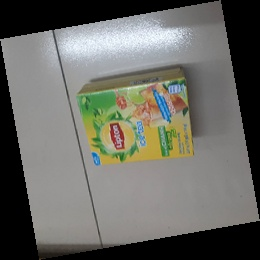LipTon: (72, 68, 196, 170)
